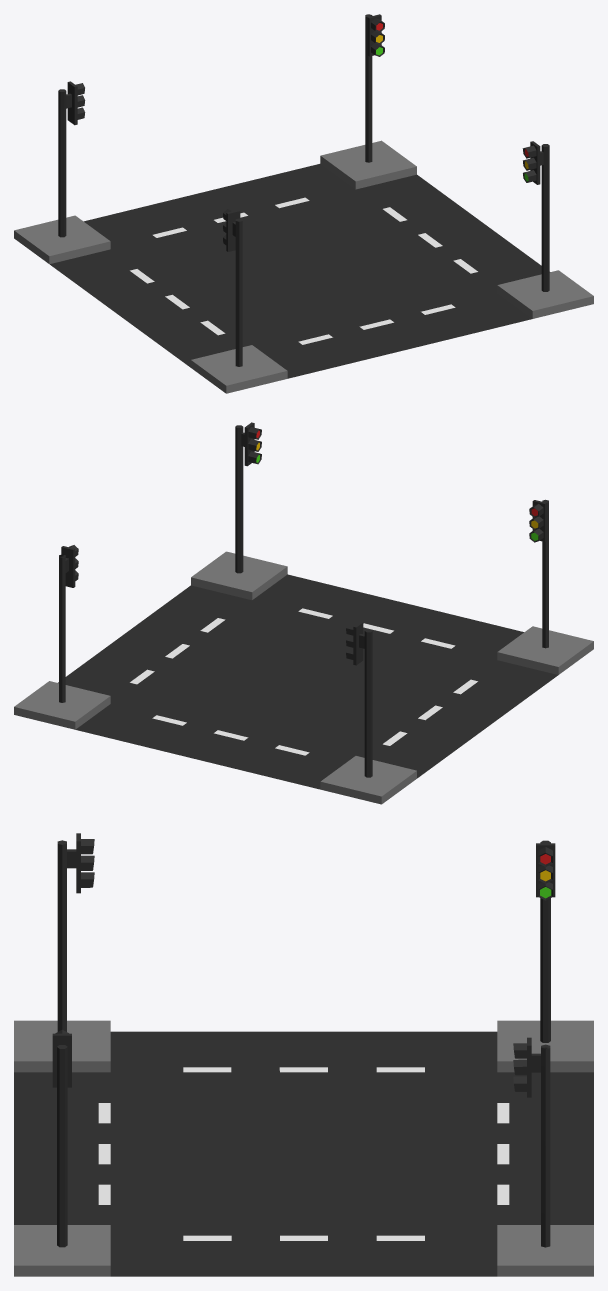
File: RoadCrossLS.fbx
3 views of the same model, one above another, from view 1: azimuth 30°, elevation 25°; view 2: azimuth 150°, elevation 25°; view 3: azimuth 270°, elevation 25° (orthographic). The views are drawn at different scales.
Parts seen in each view (by area): view 1: RoadCrossLS, Pavement, TrafficLightPole (×4); view 2: RoadCrossLS, Pavement, TrafficLightPole (×4); view 3: RoadCrossLS, Pavement, TrafficLightPole (×4), TrafficLightTop.
Part boxes in pixels (box(x1,y1,x2,y2)): RoadCrossLS: box(50, 163, 541, 378); Pavement: box(14, 140, 593, 393); TrafficLightPole (×4): box(58, 14, 549, 366); RoadCrossLS: box(58, 574, 558, 789); Pavement: box(14, 551, 593, 804); TrafficLightPole (×4): box(59, 425, 548, 777); RoadCrossLS: box(14, 1031, 593, 1276); Pavement: box(14, 1020, 593, 1276); TrafficLightPole (×4): box(57, 840, 550, 1247); TrafficLightTop: box(52, 1033, 71, 1087).
Bounding box in the file's own units: 24 × 9.8 × 24.
Materials: 1 (1 with a texture image).
